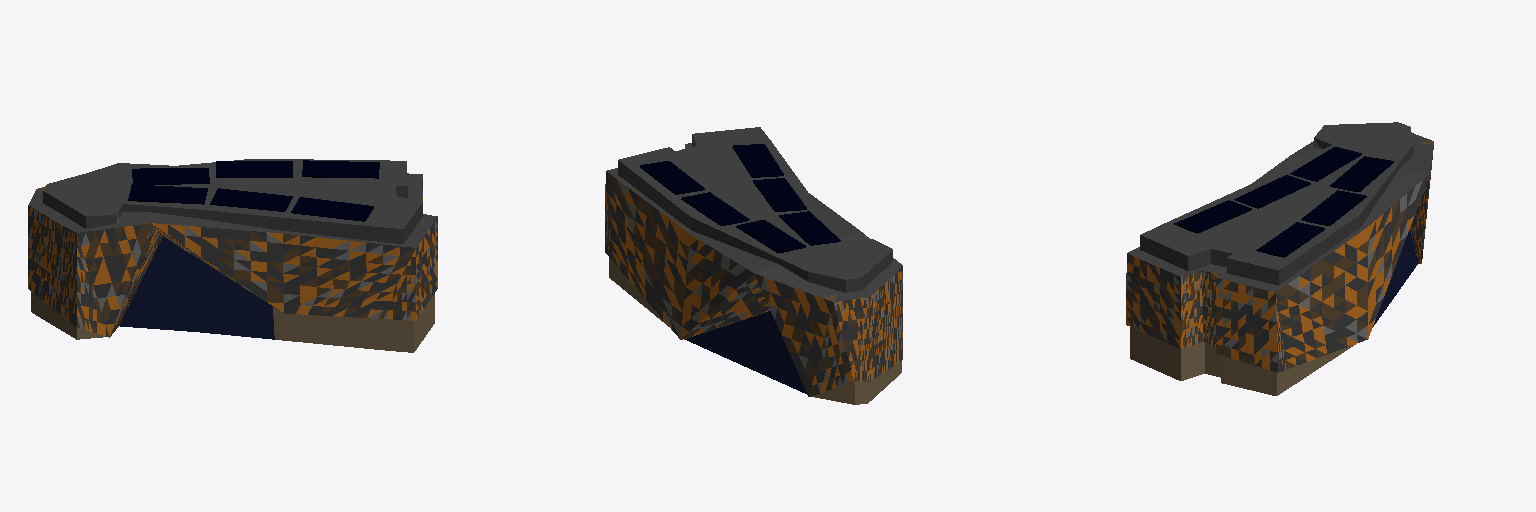
The model's file is poolegatewaybuilding_model_published.obj.
3 renders of one model, left to right at view 1: azimuth 30°, elevation 25°; view 2: azimuth 150°, elevation 25°; view 3: azimuth 270°, elevation 25°, orthographic.
Visible parts, largest first — view 1: PGB; view 2: PGB; view 3: PGB.
Boxes of the visible parts, box(x1,y1,x2,y2) form: PGB: box(28, 159, 437, 352); PGB: box(605, 127, 902, 404); PGB: box(1126, 122, 1433, 395).
Bounding box in the file's own units: 91.16 × 32.96 × 74.08.